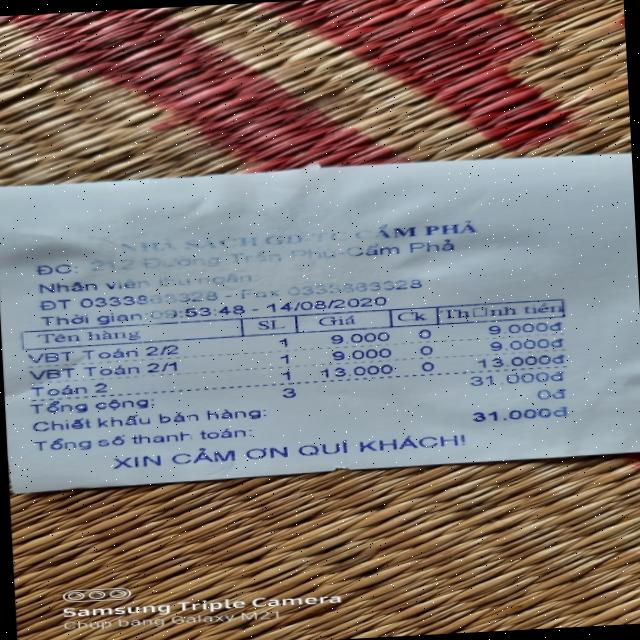Date: (265, 294, 394, 315)
Store_Name: (116, 218, 487, 255)
amount_number: (469, 406, 554, 424)
label_total: (31, 427, 248, 450)
